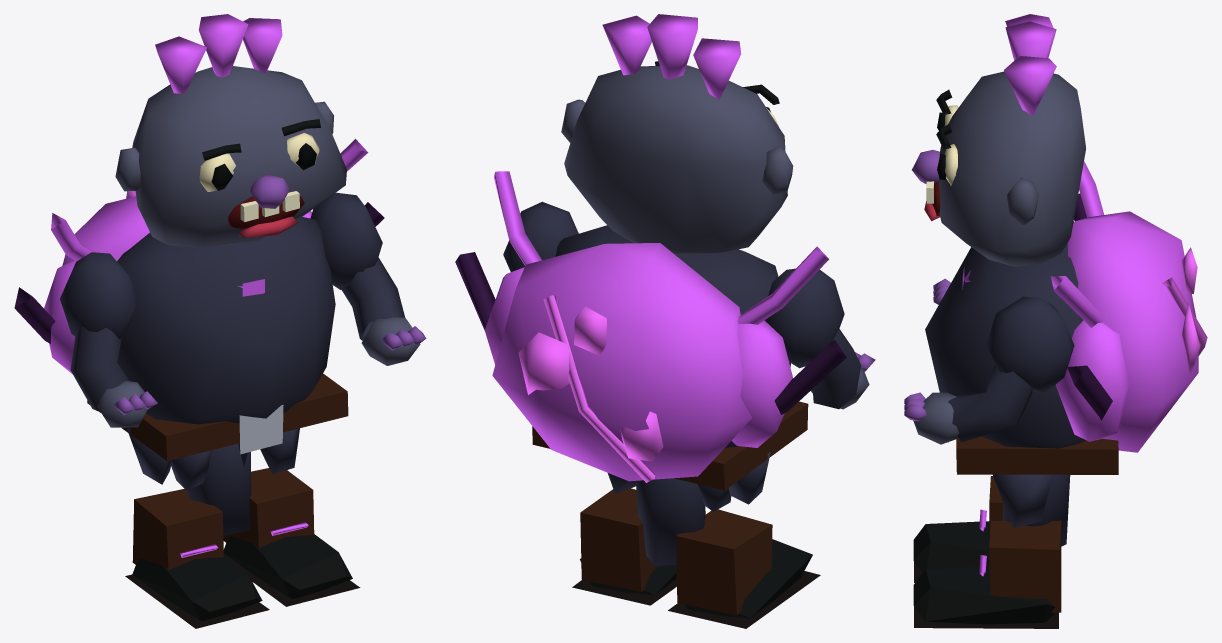
File: hivelord-lod.glb
3 views of the same model, side by side, from view 1: azimuth 30°, elevation 25°; view 2: azimuth 150°, elevation 25°; view 3: azimuth 270°, elevation 25° (orthographic). The views are drawn at different scales.
Visible parts, largest first — view 1: Body, Head, Arms, LegL, LegR; view 2: Body, Head, LegL, LegR, Arms; view 3: Body, Head, LegR, Arms, LegL.
Part boxes in pixels (x1,y1,x2,y2): Body: (14, 139, 384, 490); Head: (115, 14, 346, 247); Arms: (60, 192, 426, 427); LegL: (125, 444, 269, 628); LegR: (187, 445, 360, 606); Body: (455, 171, 846, 511); Head: (561, 14, 793, 254); LegL: (636, 478, 820, 628); LegR: (572, 478, 705, 605); Arms: (503, 201, 875, 409); Body: (925, 161, 1207, 528); Head: (912, 14, 1085, 266); LegR: (913, 497, 1067, 628); Arms: (904, 221, 1074, 444); LegL: (913, 474, 1070, 582).
Size of the model in its own units: 0.9013 by 1.27 by 0.6246.
1 material, 1 textured.
